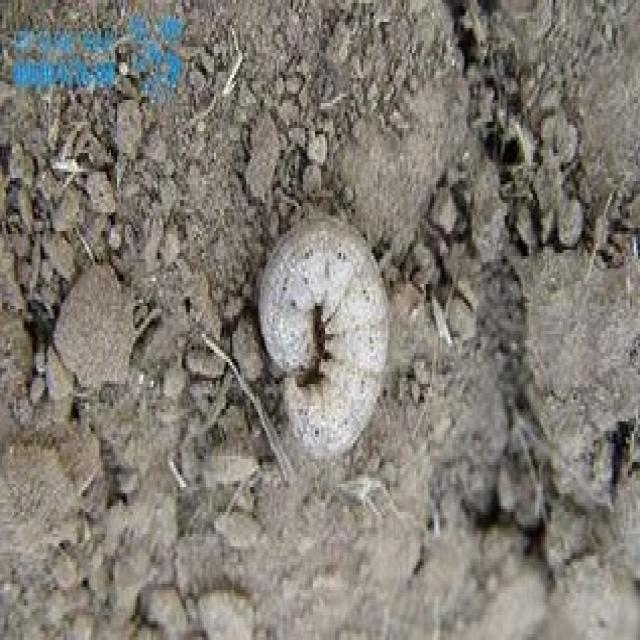black cutworm: (253, 216, 391, 460)
